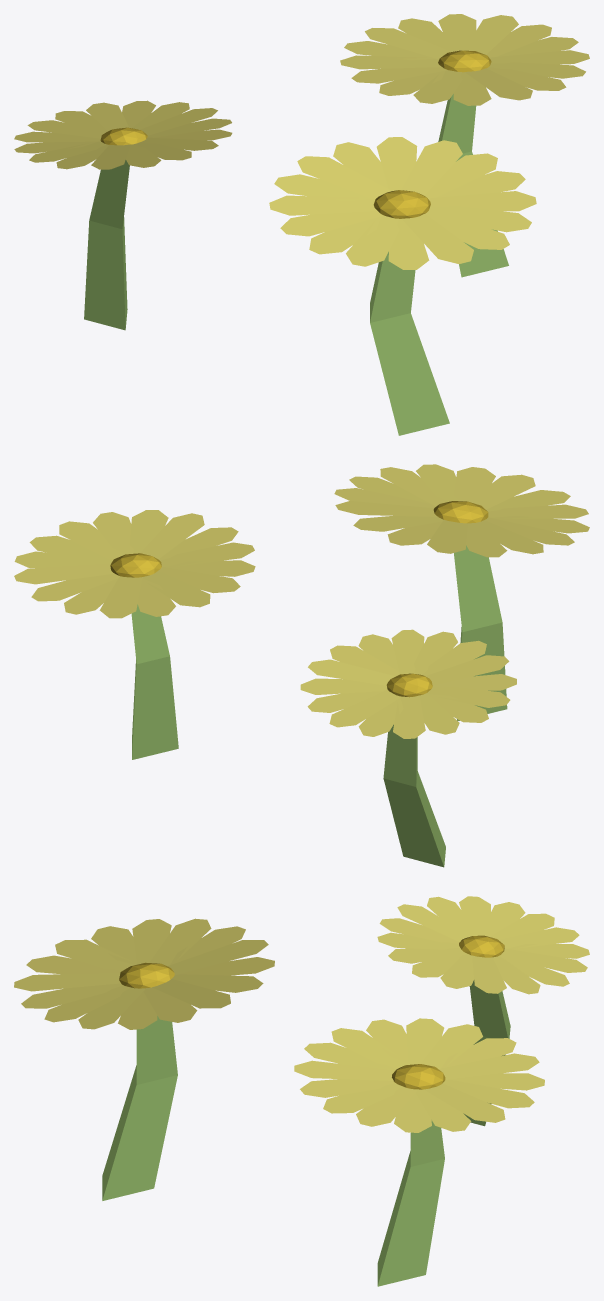
Rendered from flower02.fbx.
The picture shows the model from 3 angles, top to bottom: view 1: azimuth 30°, elevation 25°; view 2: azimuth 150°, elevation 25°; view 3: azimuth 270°, elevation 25°; orthographic projection. The views are drawn at different scales.
Parts seen in each view (by area): view 1: Flower02; view 2: Flower02; view 3: Flower02.
Part boxes in pixels (x1,y1,x2,y2): Flower02: [14, 14, 589, 435]; Flower02: [14, 464, 589, 867]; Flower02: [14, 896, 589, 1286].
Size of the model in its own units: 0.4658 by 0.1934 by 0.445.
